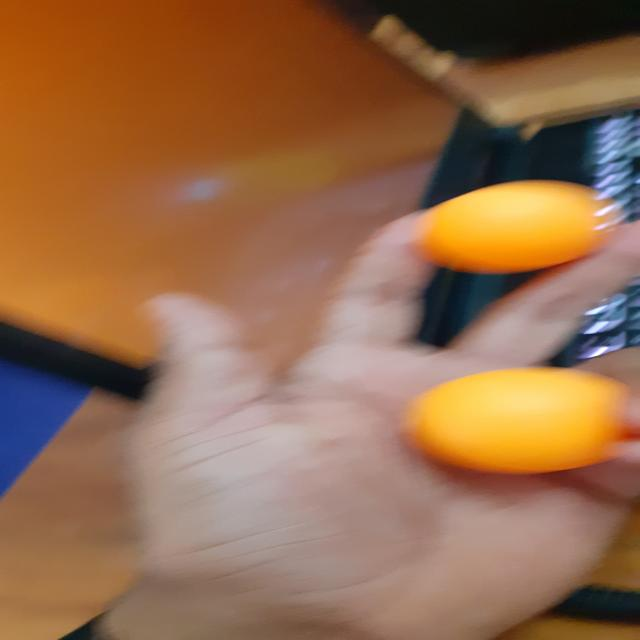orange: (400, 366, 630, 476), (421, 180, 609, 270)
